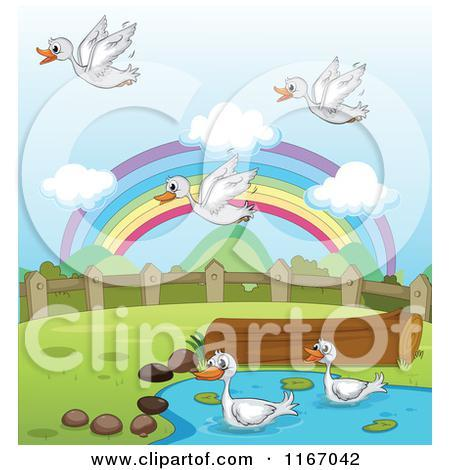bird: (193, 344, 302, 437), (25, 12, 148, 93), (269, 45, 381, 129), (156, 159, 260, 236), (301, 333, 388, 409)
